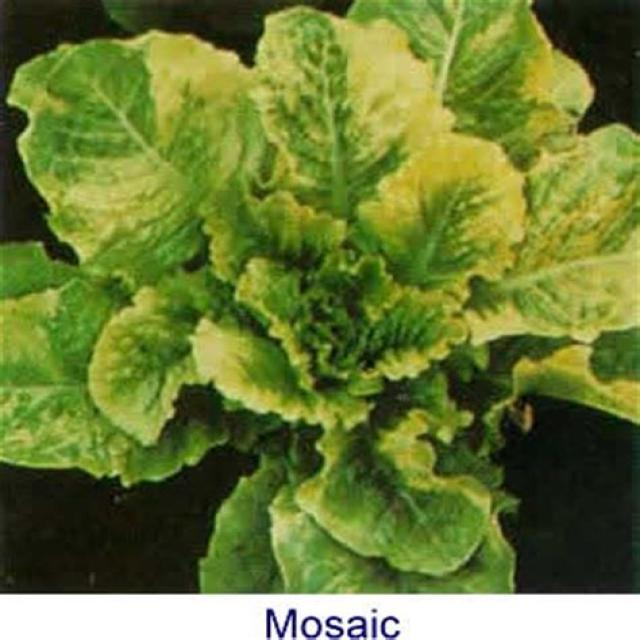lettuce mosaic virus: (20, 26, 610, 582)
